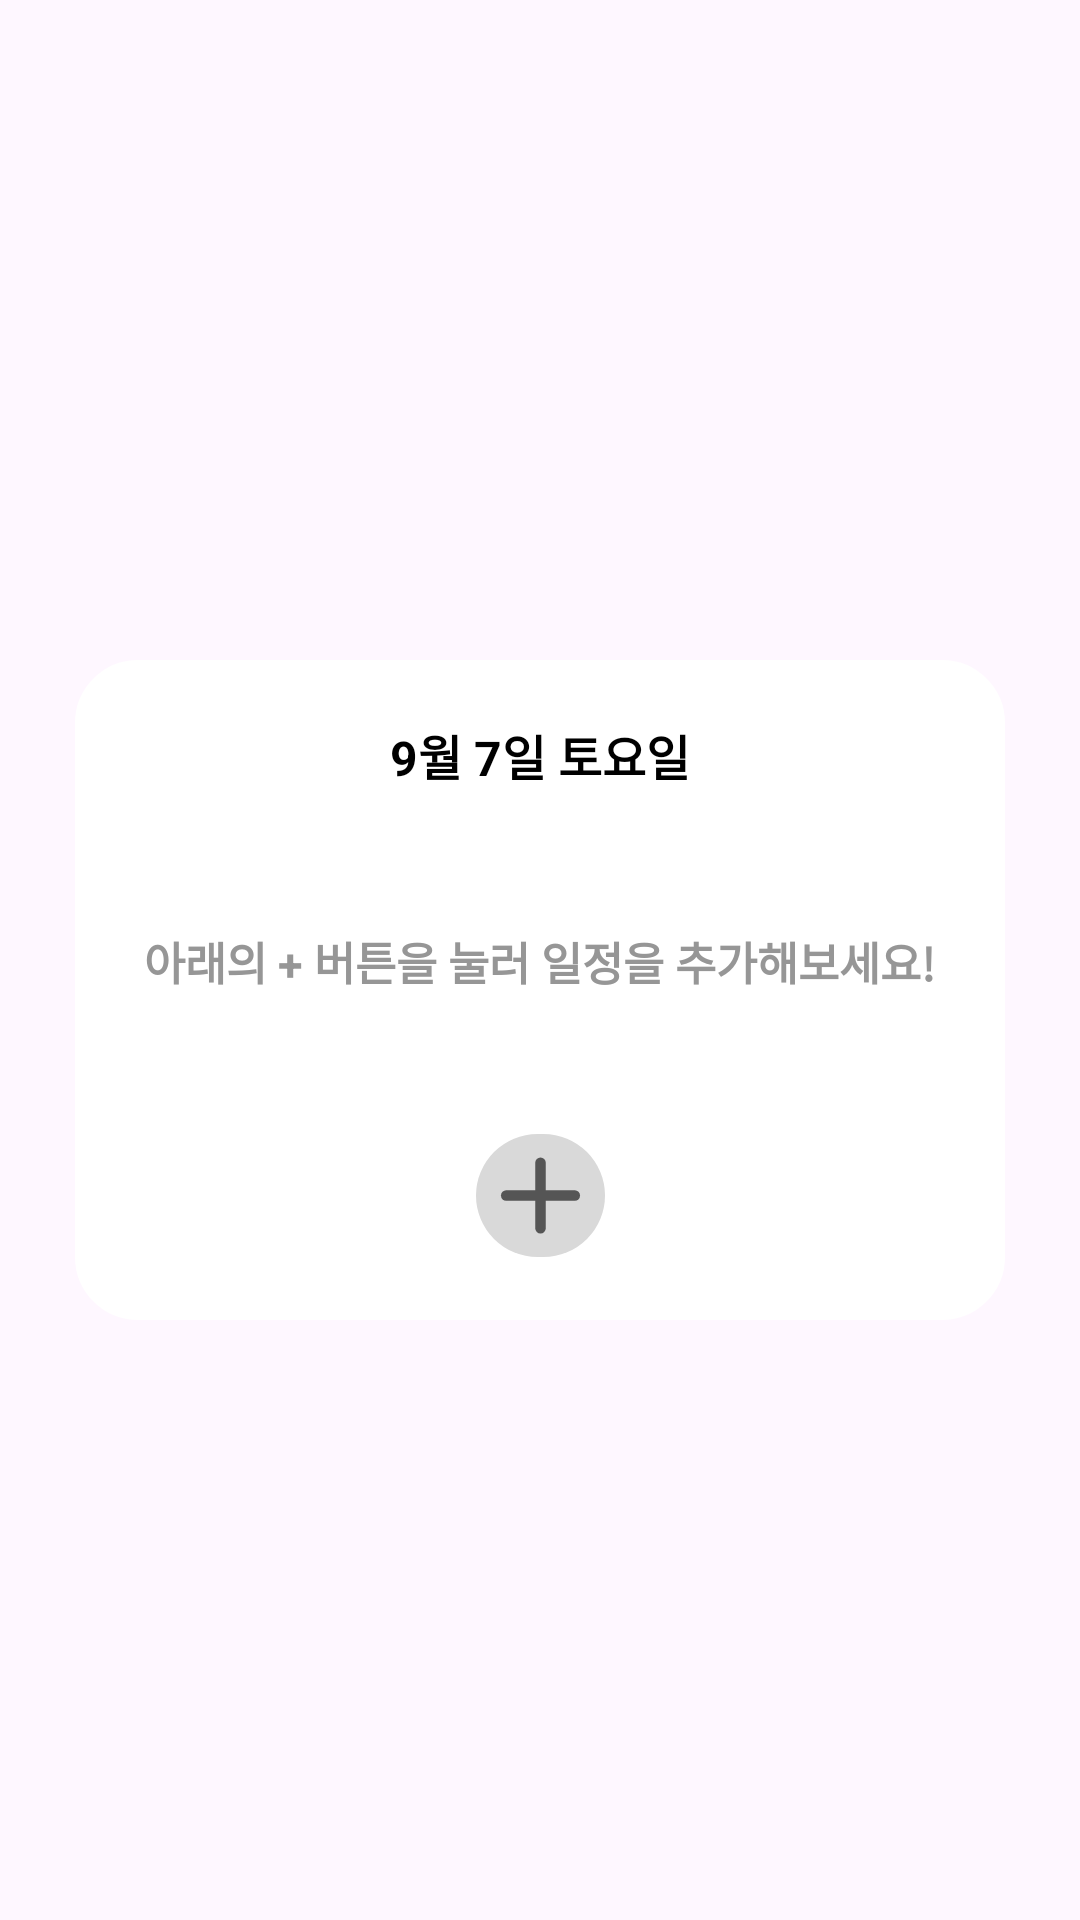

Screen size 1080×1920. Icon name, then its center in pixels as [x,y]:
add date calendar: [540,1195]
